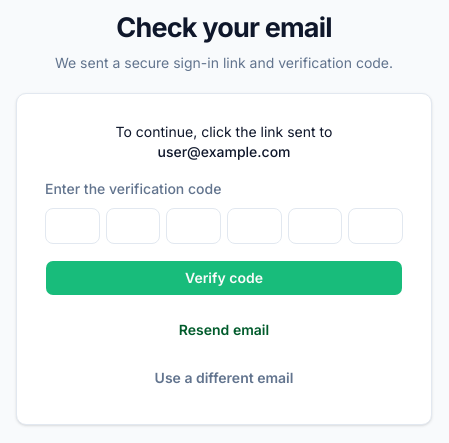
Test: VerifyForm › should distribute pasted digits across the verification inputs
The width and height of the screenshot is (449, 443).
Click the field named "Verification digit 1": [72, 226] box [45,208,100,244]
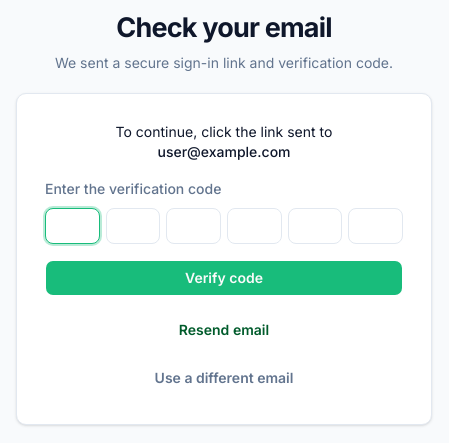
Type keys "12a3456"
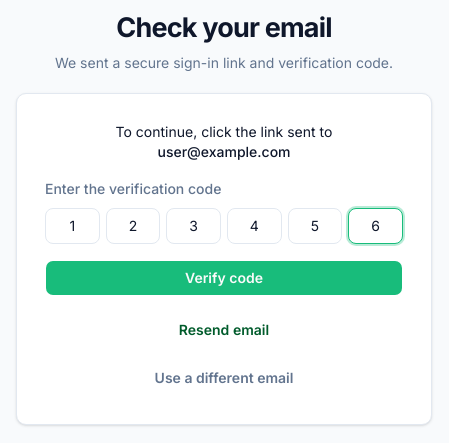
Expected: the field named "Verification digit 1" holds "1", [45,208,100,244]
Result: the field named "Verification digit 2" holds "2" at [106,208,160,244]
Result: the field named "Verification digit 6" holds "6" at [348,208,403,244]
